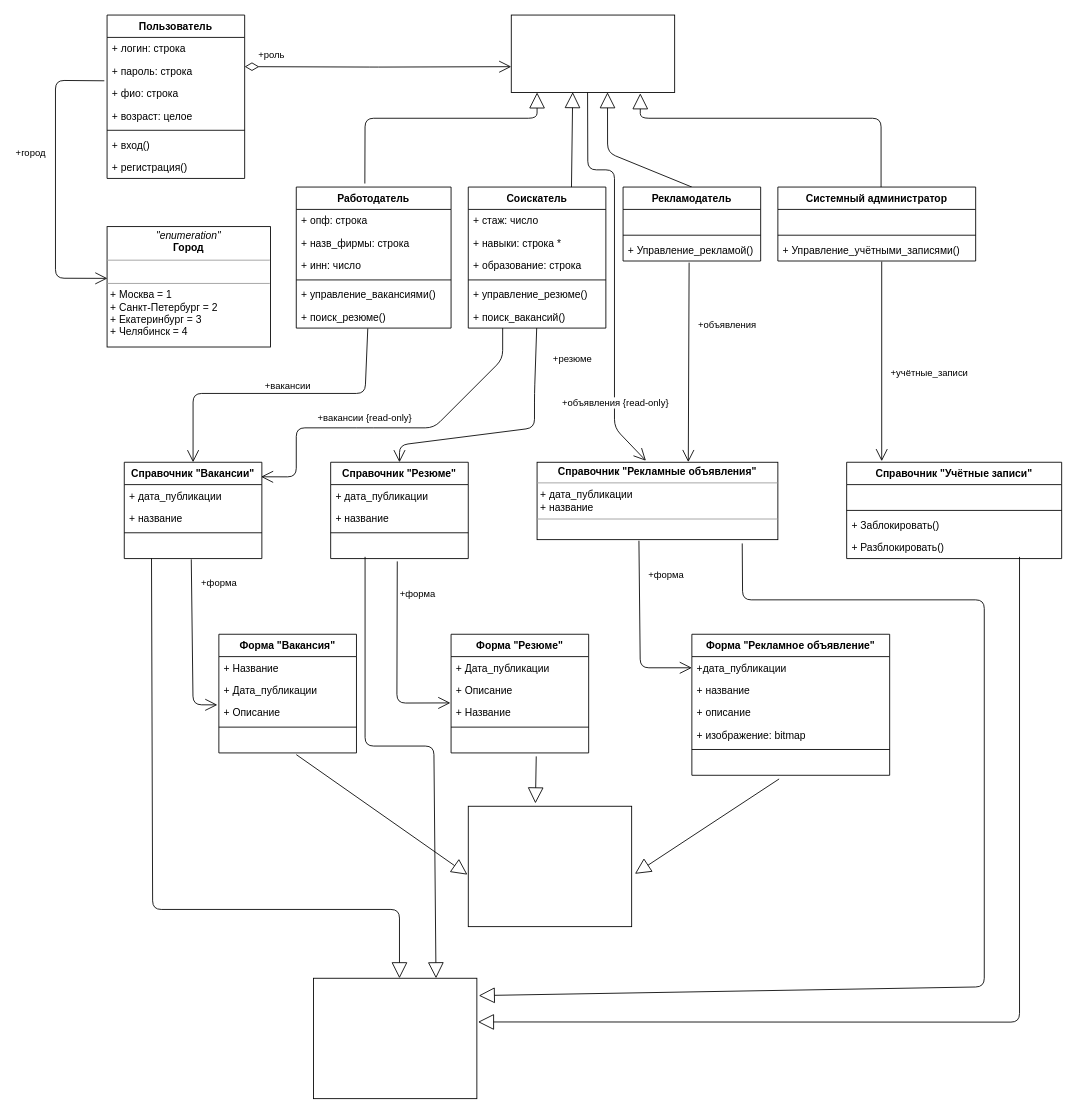
This 1077x1114 diagram has some shape labels left out. Each missing label, with the centre of its shape:
"abstract" Роль + выход(): (x=592, y=53)
"abstract" Справочник + Создать() + Просмотреть() + Изменить() + Удалить(): (x=395, y=1038)
"abstract" Форма + Сохранить() + Отмена(): (x=549, y=866)
